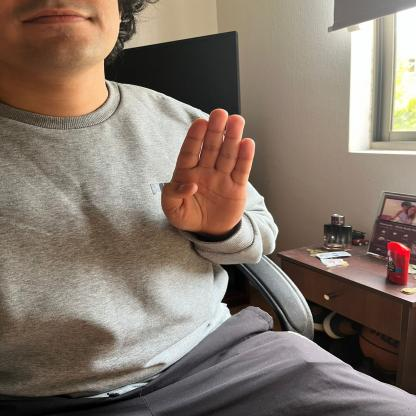B: (158, 103, 264, 240)
